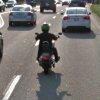Motorcycle: (28, 24, 68, 73)
